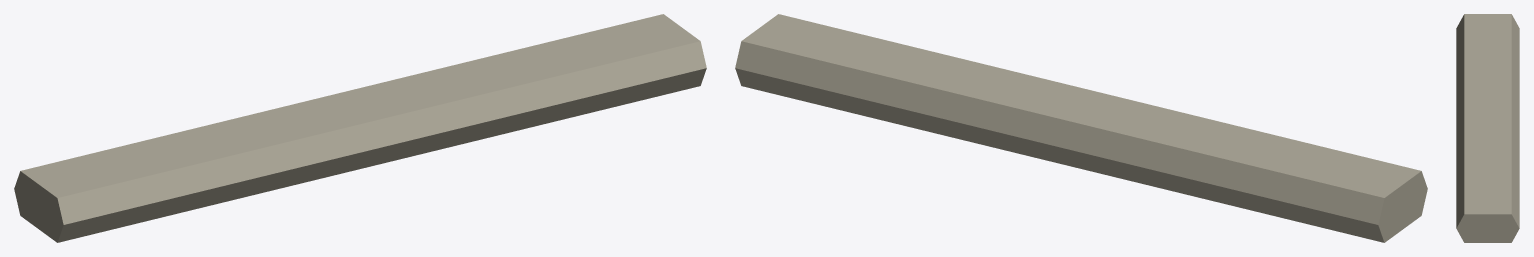
Rendered from victorian_horizontal_siding_3.fbx.
The picture shows the model from 3 angles, left to right: view 1: azimuth 30°, elevation 25°; view 2: azimuth 150°, elevation 25°; view 3: azimuth 270°, elevation 25°; orthographic projection. The views are drawn at different scales.
Visible parts, largest first — view 1: Cube.265; view 2: Cube.265; view 3: Cube.265.
Part boxes in pixels (<box>): Cube.265: <box>14,14,706,242</box>; Cube.265: <box>735,14,1427,242</box>; Cube.265: <box>1456,14,1519,242</box>.
Size of the model in its own units: 300 by 20 by 40.
